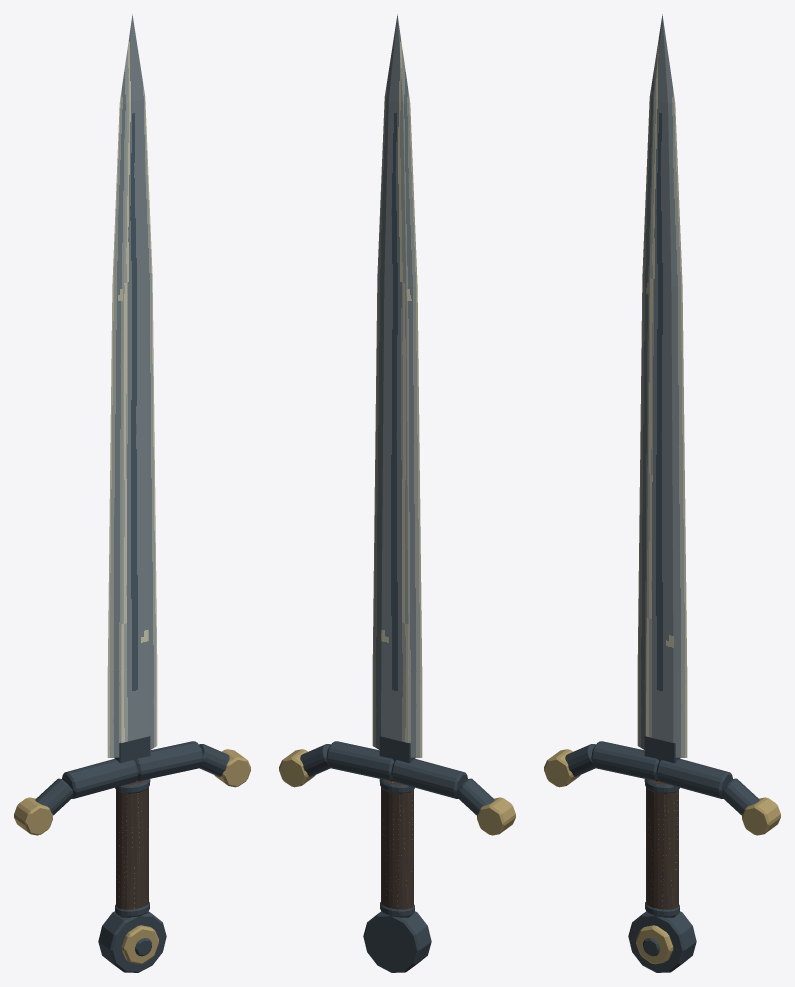
Rendered from sword-crafted.glb.
The picture shows the model from 3 angles, left to right: view 1: azimuth 30°, elevation 25°; view 2: azimuth 150°, elevation 25°; view 3: azimuth 330°, elevation 25°; orthographic projection.
Parts seen in each view (by area): view 1: sword-crafted runtime mesh; view 2: sword-crafted runtime mesh; view 3: sword-crafted runtime mesh.
Boxes of the visible parts, x1,y1,x2,y2 form: sword-crafted runtime mesh: [14, 14, 250, 972]; sword-crafted runtime mesh: [279, 14, 515, 972]; sword-crafted runtime mesh: [544, 14, 780, 972].
Size of the model in its own units: 0.2465 by 0.996 by 0.0369.
4 materials, 3 textured.
